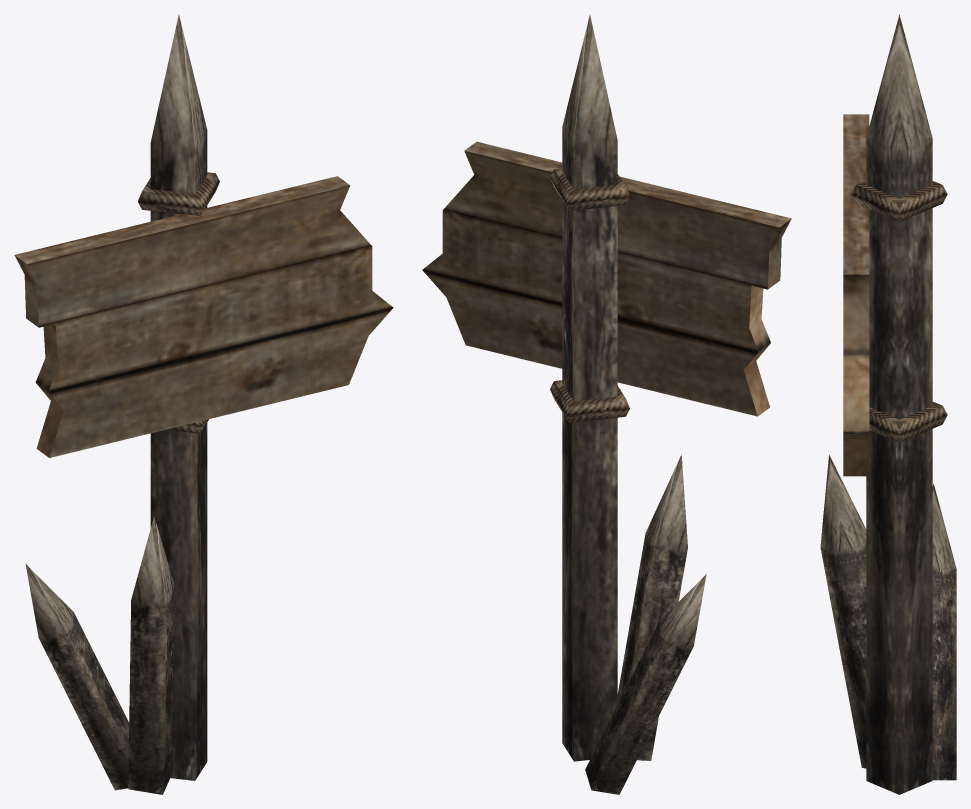
File: SC_yonghengsenlin_24.FBX
The picture shows the model from 3 angles, left to right: view 1: azimuth 30°, elevation 25°; view 2: azimuth 150°, elevation 25°; view 3: azimuth 270°, elevation 25°; orthographic projection. The views are drawn at different scales.
Visible parts, largest first — view 1: SC_yonghengsenlin_24; view 2: SC_yonghengsenlin_24; view 3: SC_yonghengsenlin_24.
Part boxes in pixels (box(x1,y1,x2,y2)): SC_yonghengsenlin_24: box(14, 14, 393, 794); SC_yonghengsenlin_24: box(422, 15, 791, 794); SC_yonghengsenlin_24: box(820, 14, 956, 794).
Bounding box in the file's own units: 108 × 219 × 34.27.
